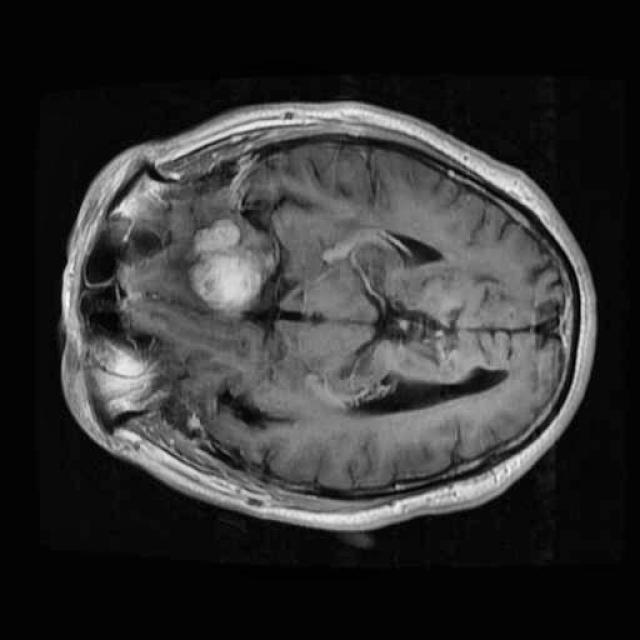Tumor: (170, 210, 272, 324)
